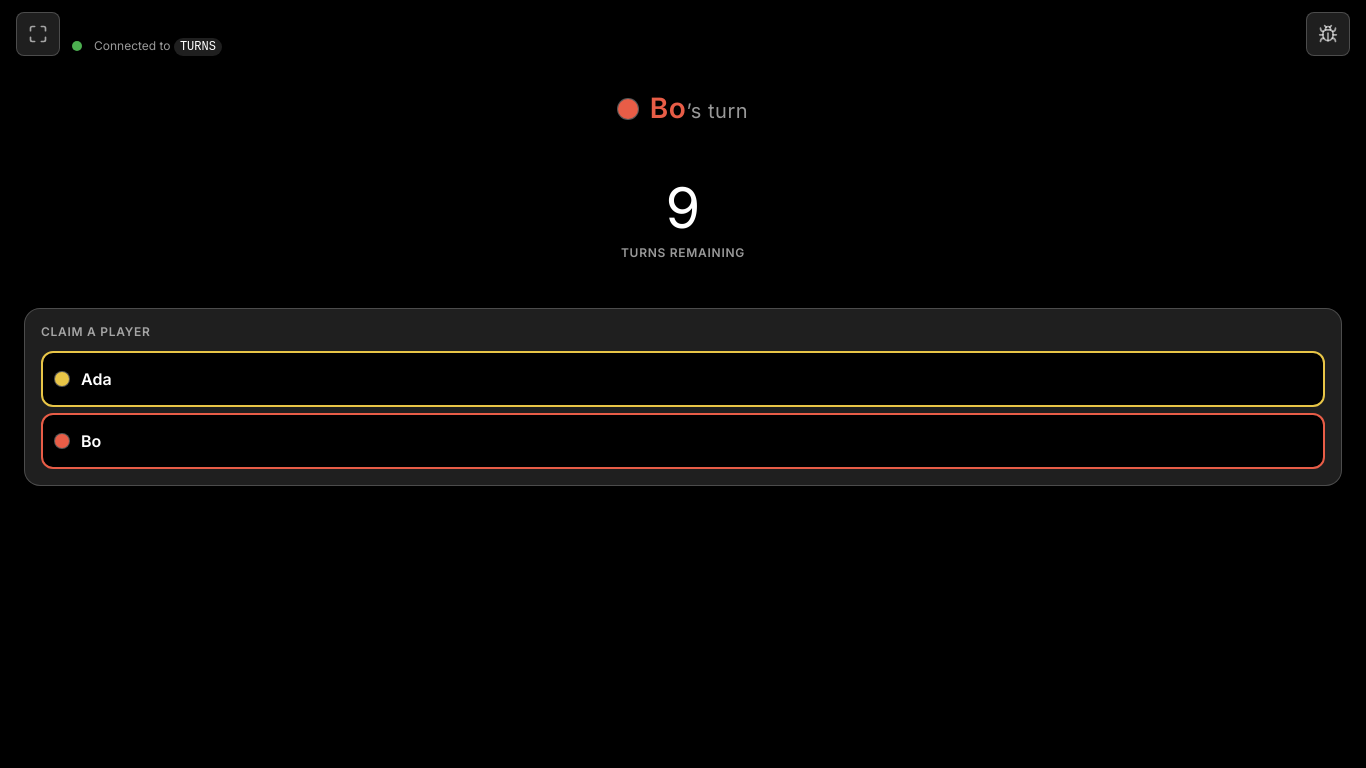
Test case: companion turn controls › waits while another seat owns the turn
Click the button "Ada".
click(96, 379)  # box x1=41 y1=351 x2=1325 y2=407
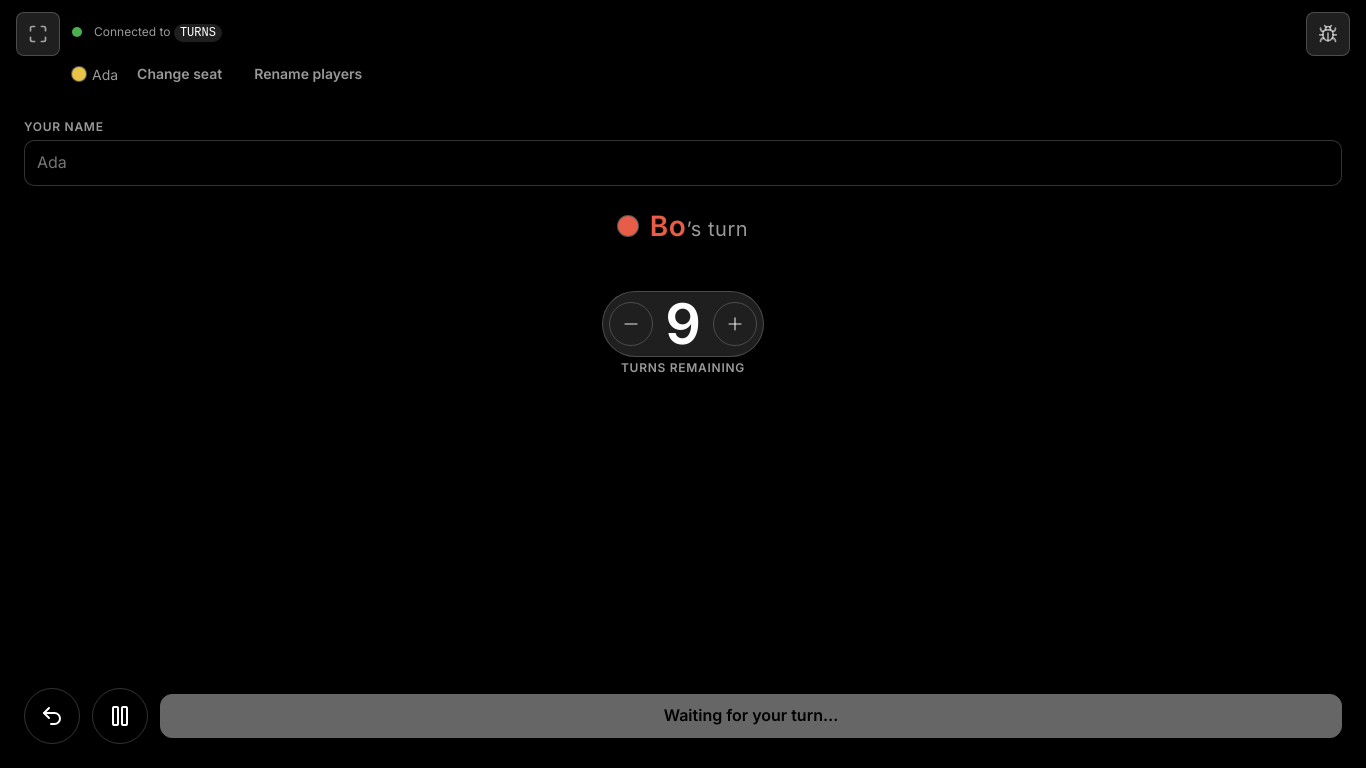
Expected: the button "Waiting for your turn…" is disabled, x1=160 y1=694 x2=1342 y2=738
